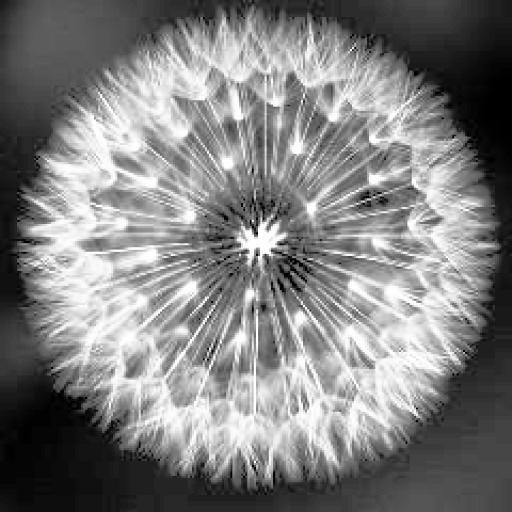dandelion: (21, 10, 493, 476)
